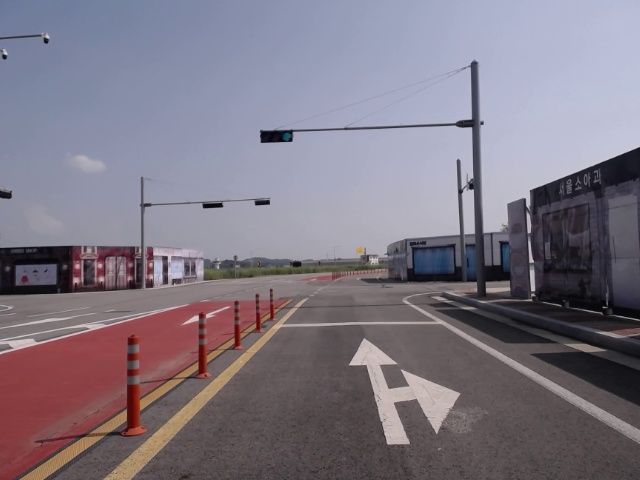green_3: (260, 130, 293, 143)
